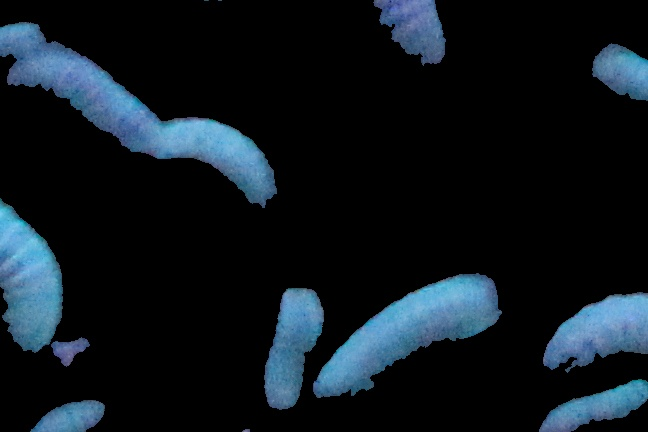larvae: (311, 271, 509, 411), (1, 51, 154, 155), (156, 115, 289, 227), (1, 161, 66, 368), (539, 288, 648, 372), (262, 284, 320, 416), (362, 1, 462, 71), (533, 381, 648, 432)
